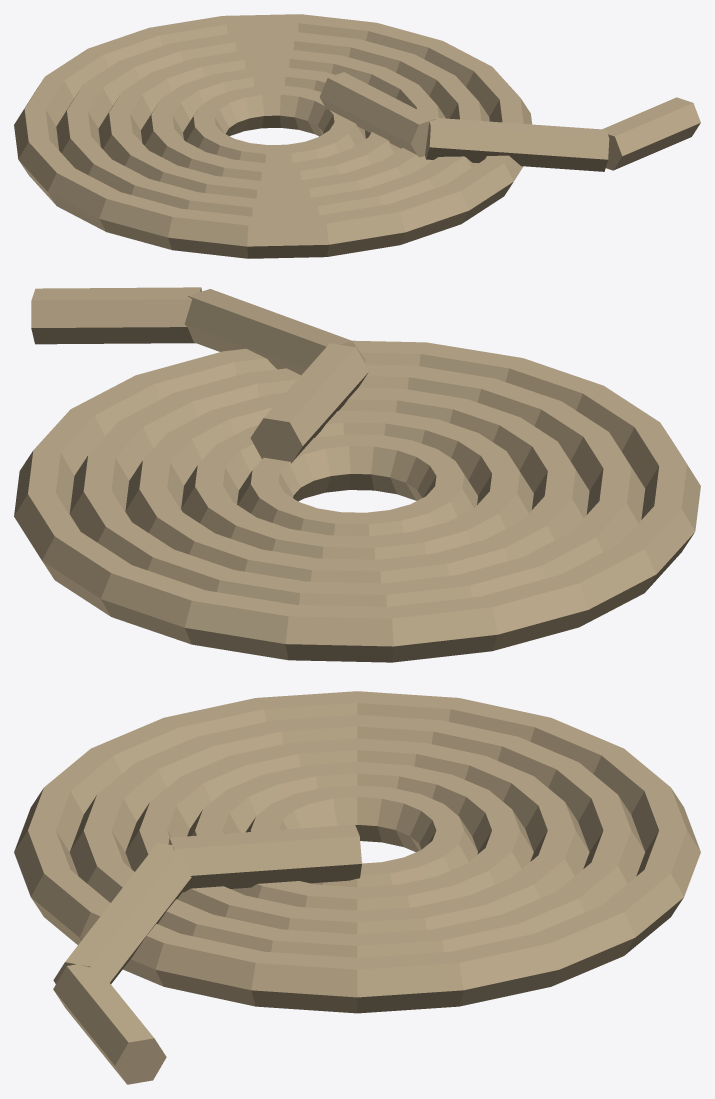
The model's file is PirateCove_RopeCoil_Showcase.glb.
3 views of the same model, one above another, from view 1: azimuth 30°, elevation 25°; view 2: azimuth 150°, elevation 25°; view 3: azimuth 270°, elevation 25° (orthographic). The views are drawn at different scales.
Parts seen in each view (by area): view 1: PirateCove_RopeCoil_Showcase; view 2: PirateCove_RopeCoil_Showcase; view 3: PirateCove_RopeCoil_Showcase.
Boxes of the visible parts, left/top/right/bottom form: PirateCove_RopeCoil_Showcase: left=14, top=14, right=700, bottom=258; PirateCove_RopeCoil_Showcase: left=14, top=287, right=700, bottom=662; PirateCove_RopeCoil_Showcase: left=14, top=691, right=700, bottom=1084.
Size of the model in its own units: 1.37 by 0.1479 by 1.11.
